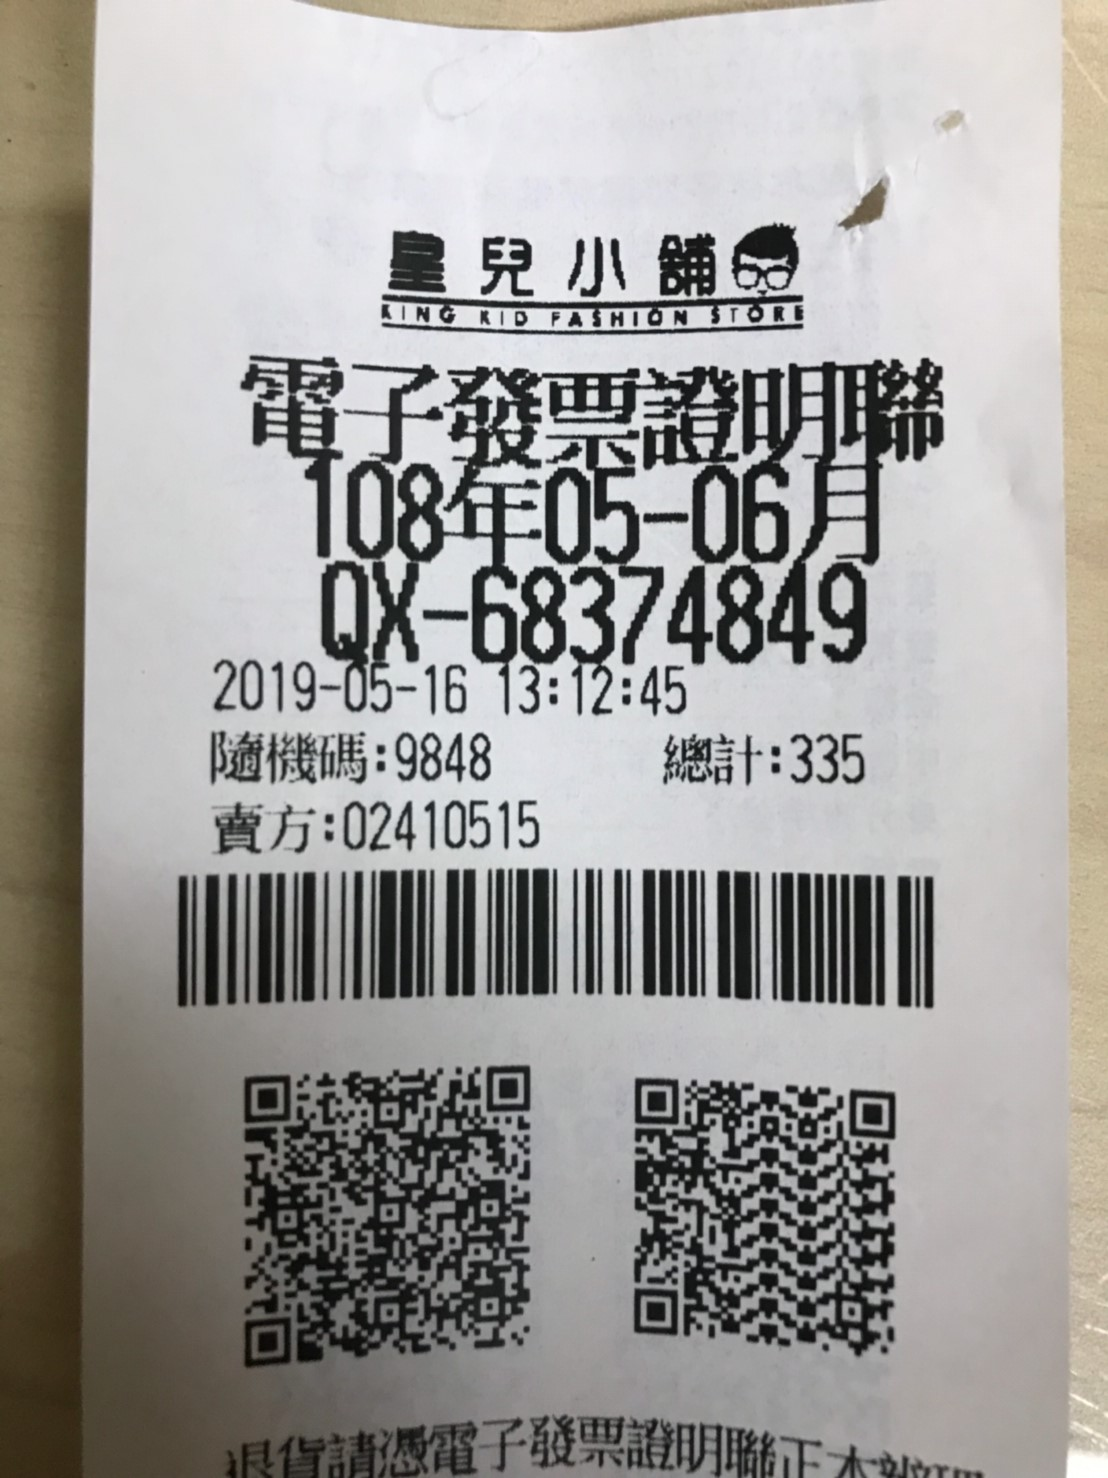Date_New: (306, 457, 887, 567)
Number_New: (469, 562, 871, 667)
